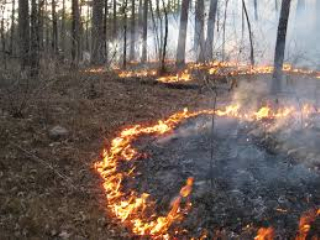fire: (94, 123, 189, 234), (143, 95, 315, 129), (201, 56, 312, 81), (111, 63, 200, 88)
smoke: (103, 18, 311, 58)
